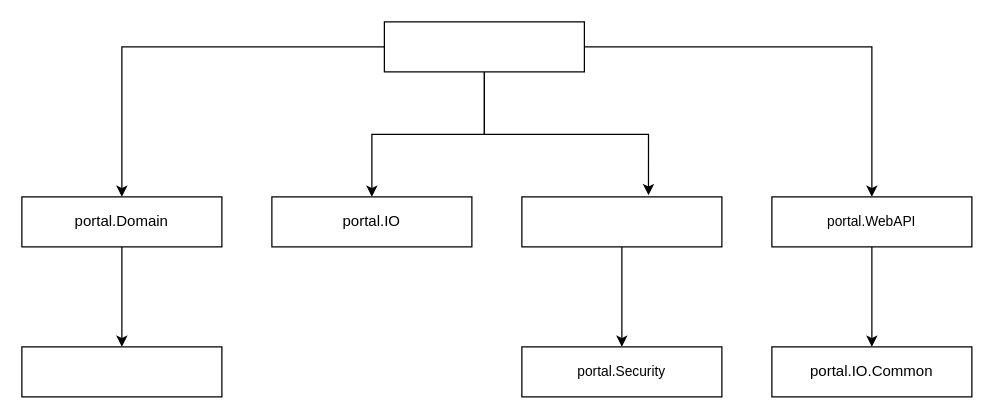
Some shapes in this 994 by 419 pixel diagram are drawn without their labels. The shapes that lost their labels are listed below. From the top down, each one's box as (x1, y1, x2, y2) in pixels, then its label:
(383, 21, 584, 72): portal.Service
(521, 196, 722, 247): portal.Security.Identity
(21, 346, 222, 397): portal.Domain.Entities
